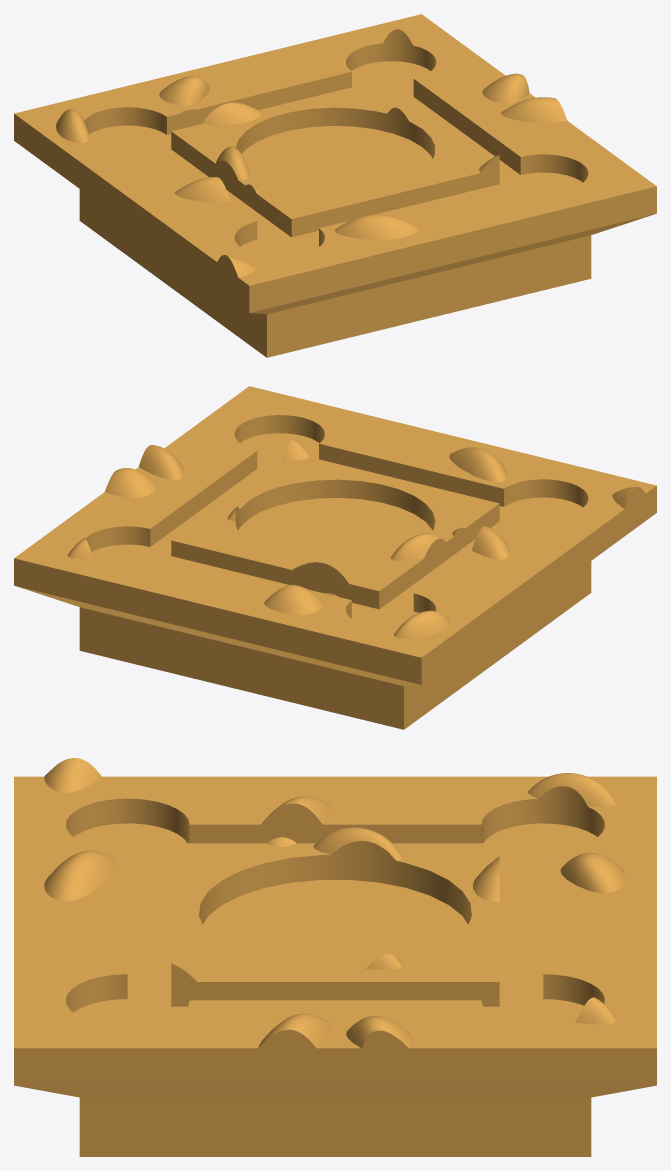
The model's file is plains.obj.
3 renders of one model, top to bottom at view 1: azimuth 30°, elevation 25°; view 2: azimuth 150°, elevation 25°; view 3: azimuth 270°, elevation 25°, orthographic. The views are drawn at different scales.
Parts seen in each view (by area): view 1: mesh1, mesh27, mesh22, mesh40, mesh43, mesh31, mesh11, mesh28, mesh42, mesh32, mesh14, mesh37 (+13 smaller); view 2: mesh1, mesh25, mesh20, mesh40, mesh43, mesh31, mesh11, mesh28, mesh35, mesh42, mesh17, mesh37 (+12 smaller); view 3: mesh1, mesh26, mesh10, mesh31, mesh40, mesh43, mesh42, mesh23, mesh33, mesh12, mesh15, mesh16 (+12 smaller).
Part boxes in pixels (left/top/right/bottom): mesh1: left=14, top=14, right=656, bottom=285; mesh27: left=267, top=235, right=591, bottom=357; mesh22: left=249, top=186, right=656, bottom=312; mesh40: left=172, top=80, right=488, bottom=219; mesh43: left=242, top=126, right=432, bottom=191; mesh31: left=89, top=61, right=582, bottom=256; mesh11: left=14, top=114, right=249, bottom=312; mesh28: left=79, top=189, right=266, bottom=357; mesh42: left=236, top=107, right=434, bottom=158; mesh32: left=291, top=155, right=499, bottom=237; mesh14: left=167, top=72, right=351, bottom=134; mesh37: left=171, top=131, right=291, bottom=236; mesh1: left=14, top=386, right=656, bottom=657; mesh25: left=79, top=607, right=403, bottom=729; mesh20: left=14, top=558, right=421, bottom=684; mesh40: left=172, top=457, right=498, bottom=591; mesh43: left=238, top=498, right=432, bottom=563; mesh31: left=91, top=433, right=582, bottom=628; mesh11: left=421, top=486, right=656, bottom=684; mesh28: left=404, top=561, right=591, bottom=729; mesh35: left=171, top=540, right=379, bottom=609; mesh42: left=235, top=479, right=435, bottom=530; mesh17: left=319, top=444, right=503, bottom=506; mesh37: left=379, top=503, right=499, bottom=608; mesh1: left=14, top=776, right=656, bottom=1048; mesh26: left=79, top=1097, right=591, bottom=1156; mesh10: left=14, top=1029, right=656, bottom=1085; mesh31: left=73, top=823, right=597, bottom=1026; mesh40: left=171, top=843, right=499, bottom=981; mesh43: left=202, top=880, right=468, bottom=970; mesh42: left=199, top=841, right=471, bottom=924; mesh23: left=15, top=1085, right=655, bottom=1097; mesh33: left=171, top=963, right=499, bottom=1006; mesh12: left=189, top=803, right=481, bottom=843; mesh15: left=481, top=786, right=604, bottom=843; mesh16: left=66, top=798, right=189, bottom=843.
Bounding box in the file's own units: 0.0373 × 0.0102 × 0.0373.
